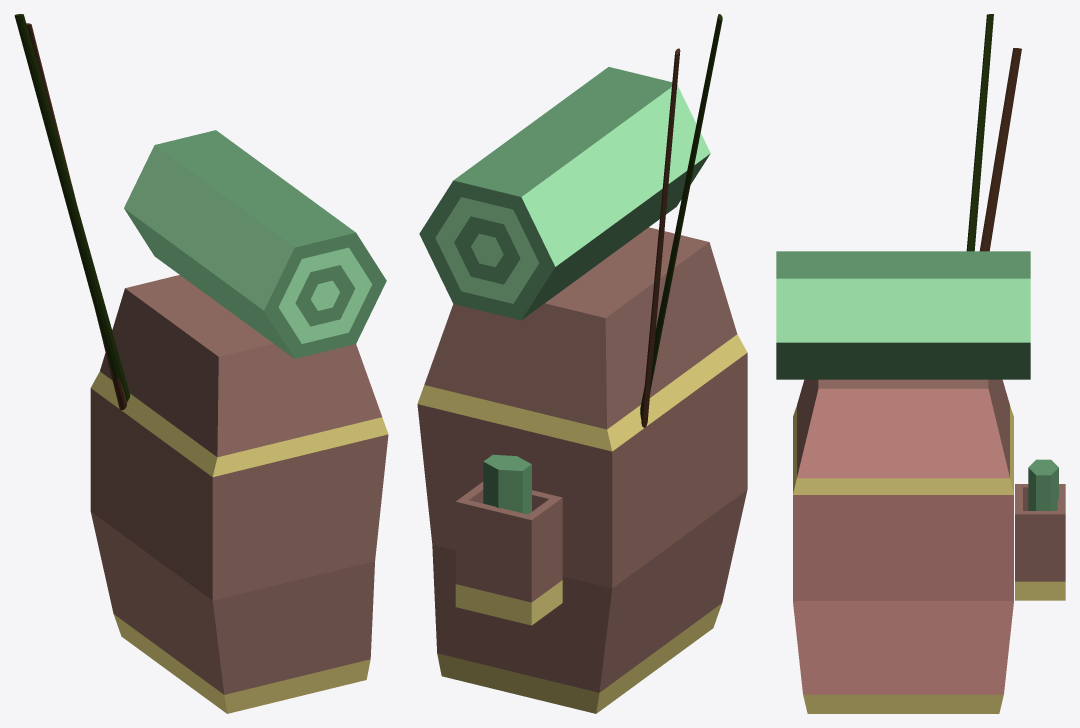
3 renders of one model, left to right at view 1: azimuth 30°, elevation 25°; view 2: azimuth 150°, elevation 25°; view 3: azimuth 270°, elevation 25°, orthographic. The views are drawn at different scales.
Parts seen in each view (by area): view 1: 立方体, 柱体, 柱体.003, 柱体.002; view 2: 立方体, 柱体, 柱体.001, 柱体.003, 柱体.002; view 3: 立方体, 柱体, 柱体.002, 柱体.003, 柱体.001.
Part boxes in pixels (bbox=[...]): 立方体: bbox=[90, 275, 388, 713]; 柱体: bbox=[124, 130, 386, 358]; 柱体.003: bbox=[14, 14, 130, 401]; 柱体.002: bbox=[26, 23, 127, 410]; 立方体: bbox=[417, 227, 747, 713]; 柱体: bbox=[419, 67, 710, 320]; 柱体.001: bbox=[483, 454, 531, 514]; 柱体.003: bbox=[640, 14, 722, 419]; 柱体.002: bbox=[641, 48, 680, 427]; 立方体: bbox=[793, 379, 1065, 713]; 柱体: bbox=[776, 251, 1030, 379]; 柱体.002: bbox=[979, 48, 1021, 251]; 柱体.003: bbox=[966, 14, 993, 251]; 柱体.001: bbox=[1028, 459, 1058, 510].
Size of the model in its own units: 74.58 by 177 by 78.23.
